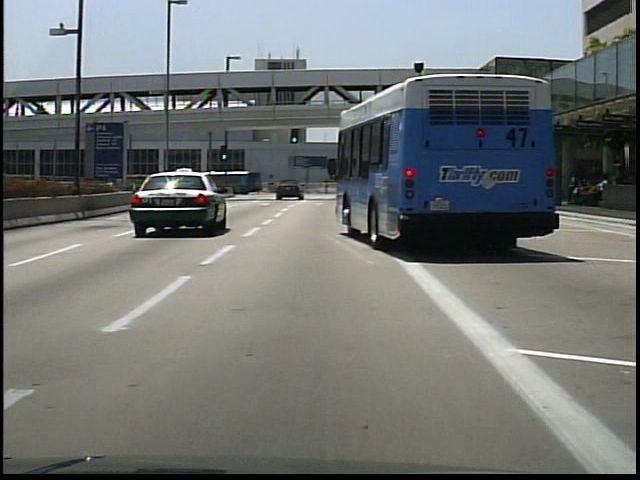person: (566, 170, 581, 205)
